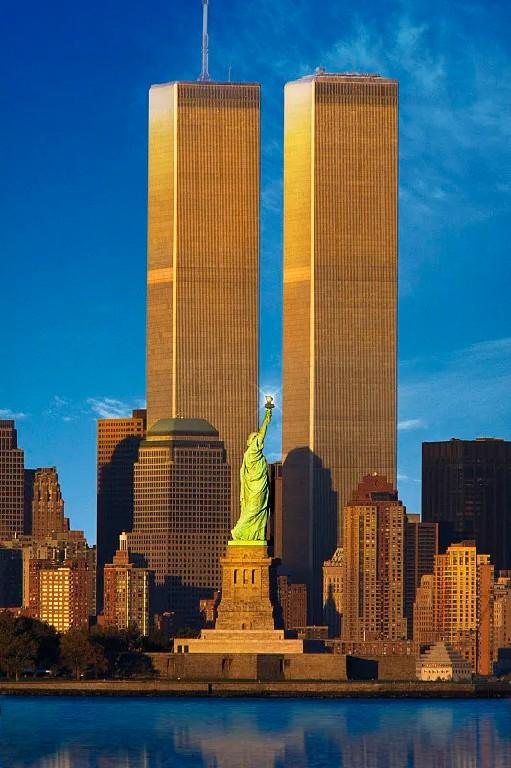SL: (214, 393, 283, 629)
